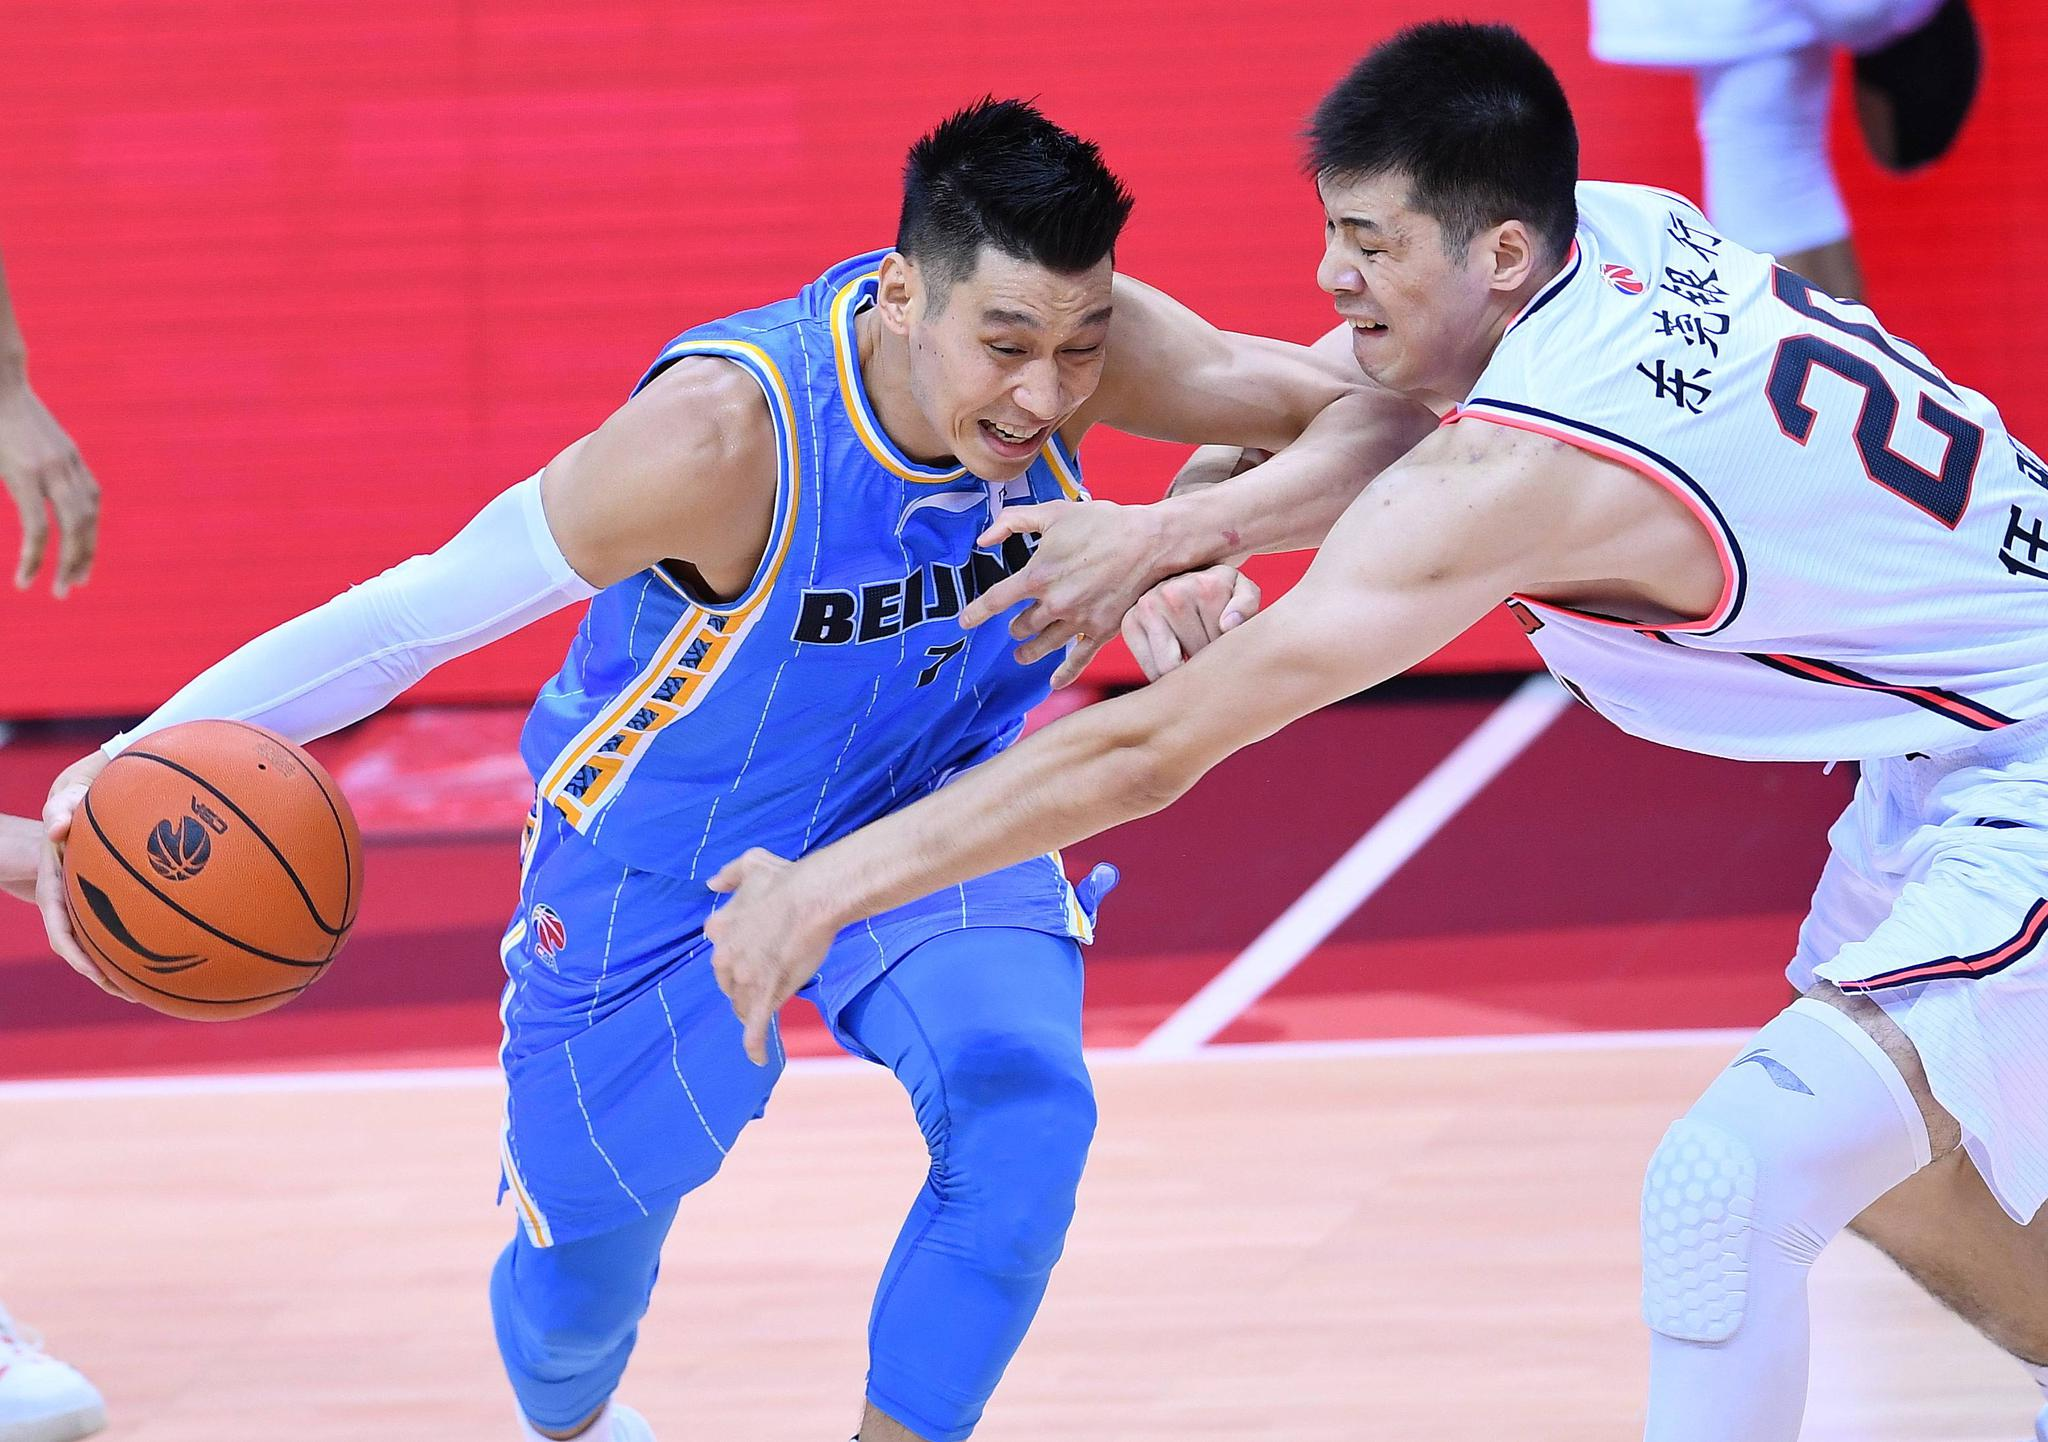ball: (61, 723, 363, 1018)
